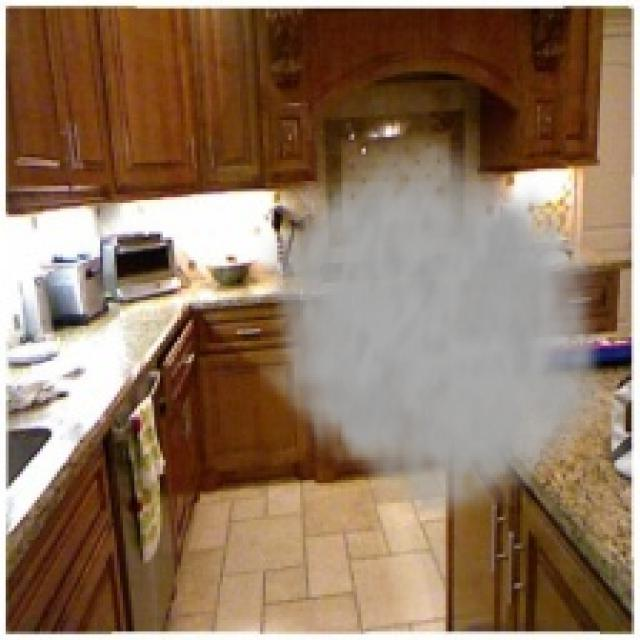smoke: (260, 123, 623, 531)
